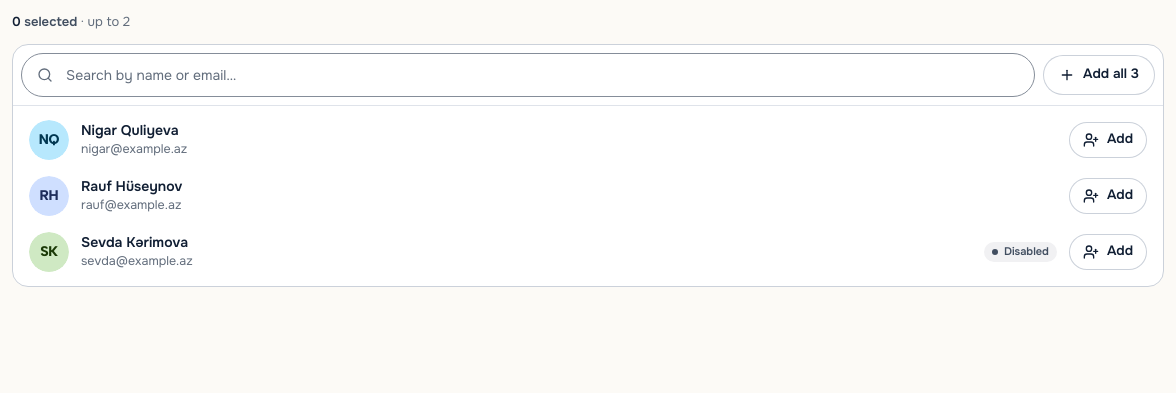
ParticipantsPicker › stops at the limit
The width and height of the screenshot is (1176, 393).
Click the button with aria-label "Add Nigar Quliyeva" at (1108, 140), box [1069, 122, 1147, 158]
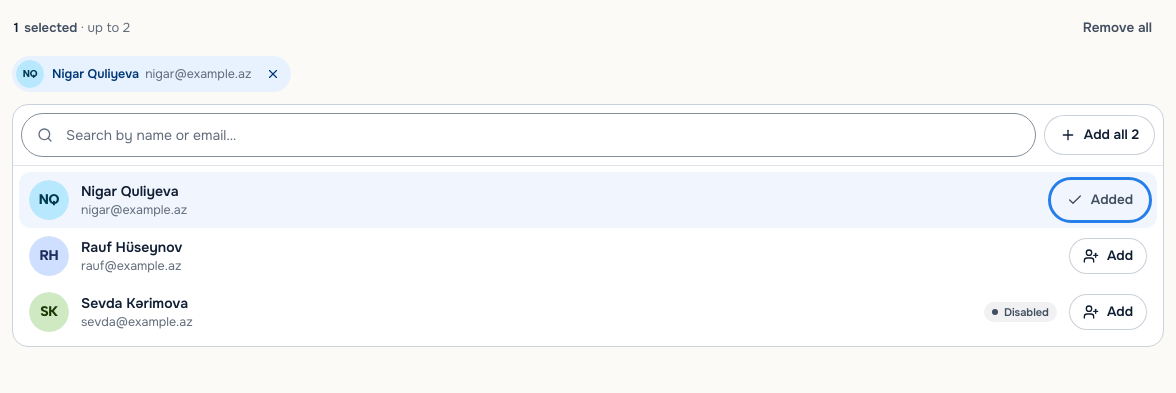
Click the button with aria-label "Add Rauf Hüseynov" at (1108, 256), box [1069, 238, 1147, 274]
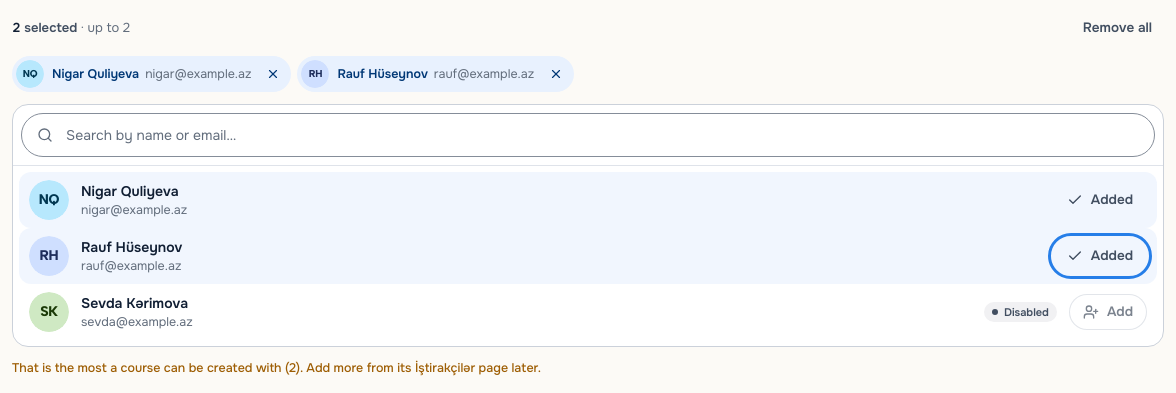
Now the button with aria-label "Add Sevda Kərimova" is disabled, box [1069, 294, 1147, 330]
Now the button "Add all" is gone
Now the text "most a course can be created with" is shown, box [12, 360, 289, 376]
